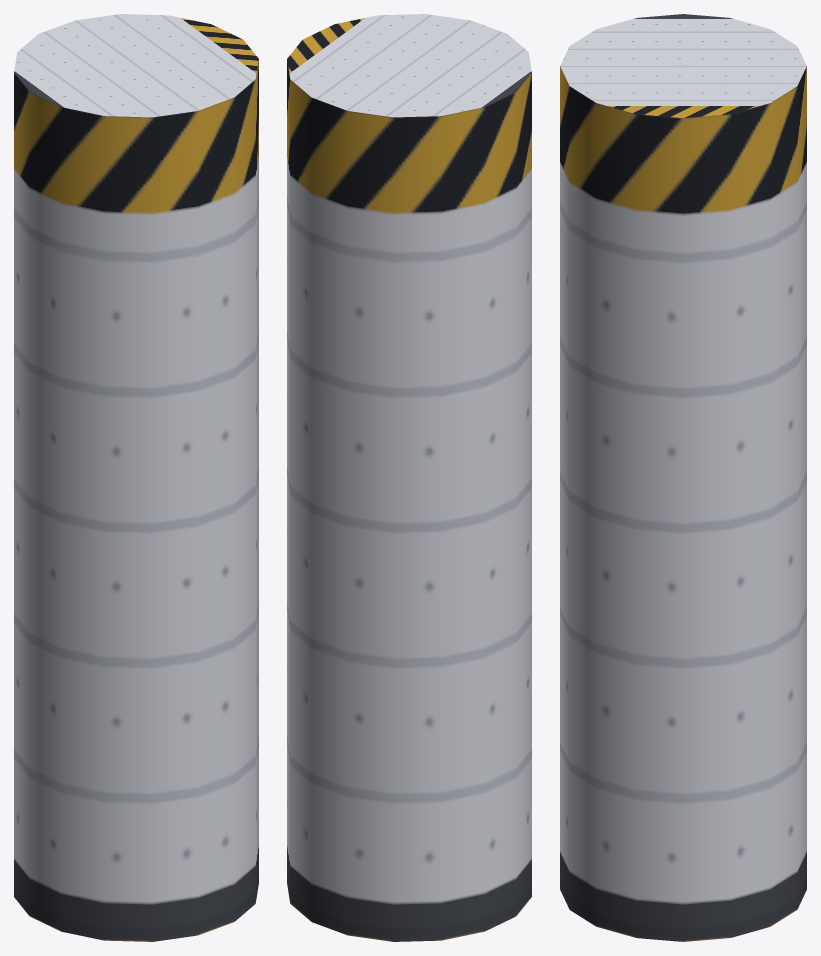
Rendered from srb-mega_megalodon-segmented-srb.glb.
The picture shows the model from 3 angles, left to right: view 1: azimuth 30°, elevation 25°; view 2: azimuth 150°, elevation 25°; view 3: azimuth 270°, elevation 25°; orthographic projection.
Visible parts, largest first — view 1: Megalodon Segmented SRB; view 2: Megalodon Segmented SRB; view 3: Megalodon Segmented SRB.
Part boxes in pixels (<box>): Megalodon Segmented SRB: <box>14,14,258,941</box>; Megalodon Segmented SRB: <box>287,14,531,941</box>; Megalodon Segmented SRB: <box>560,14,806,941</box>.
Bounding box in the file's own units: 1.9 × 7 × 1.9.
Materials: 1 (1 with a texture image).
